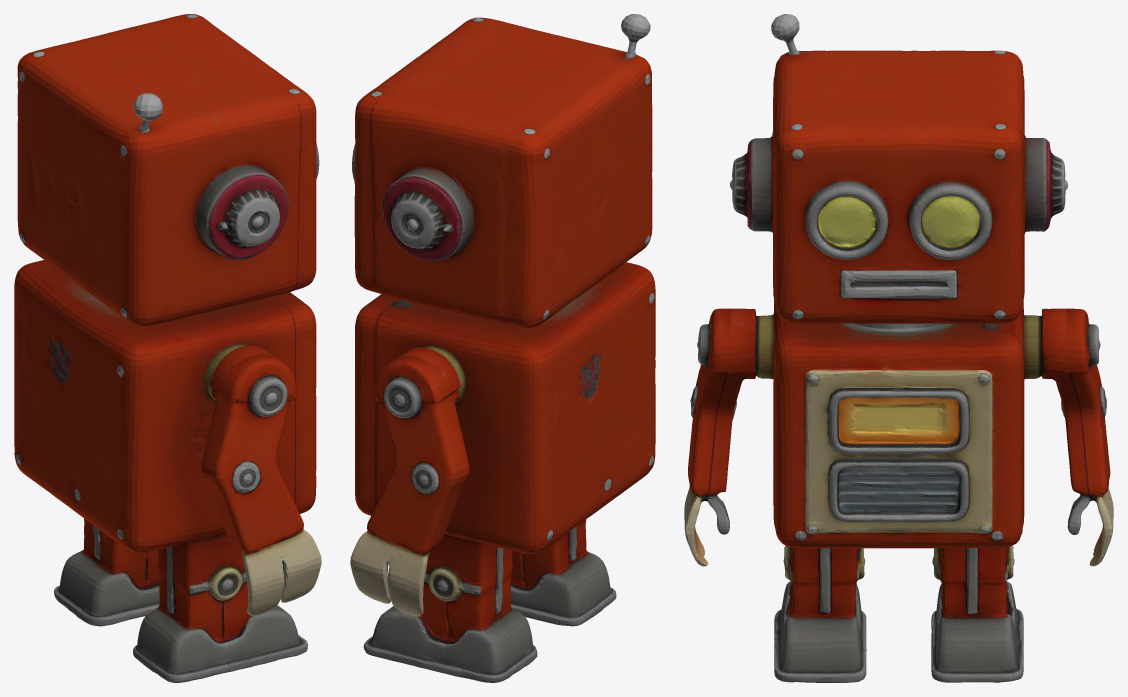
The model's file is special-03.glb.
The picture shows the model from 3 angles, left to right: view 1: azimuth 30°, elevation 25°; view 2: azimuth 150°, elevation 25°; view 3: azimuth 270°, elevation 25°; orthographic projection.
Visible parts, largest first — view 1: tripo_node_88ce3cf6-966b-4800-a0c5-25098b4b5698; view 2: tripo_node_88ce3cf6-966b-4800-a0c5-25098b4b5698; view 3: tripo_node_88ce3cf6-966b-4800-a0c5-25098b4b5698.
Boxes of the visible parts, bbox=[...] form: tripo_node_88ce3cf6-966b-4800-a0c5-25098b4b5698: bbox=[14, 14, 321, 682]; tripo_node_88ce3cf6-966b-4800-a0c5-25098b4b5698: bbox=[350, 14, 655, 682]; tripo_node_88ce3cf6-966b-4800-a0c5-25098b4b5698: bbox=[684, 14, 1113, 682].
Size of the model in its own units: 0.3639 by 0.999 by 0.6577.
1 material, 1 textured.
